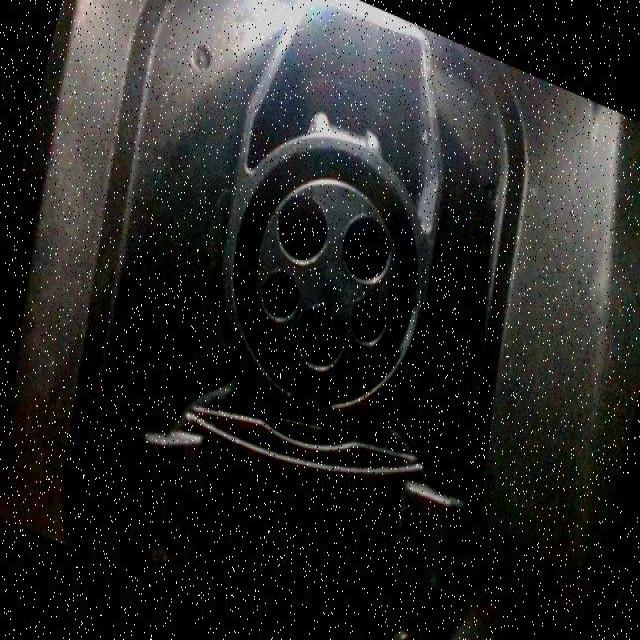Type 1: (227, 144, 426, 397)
